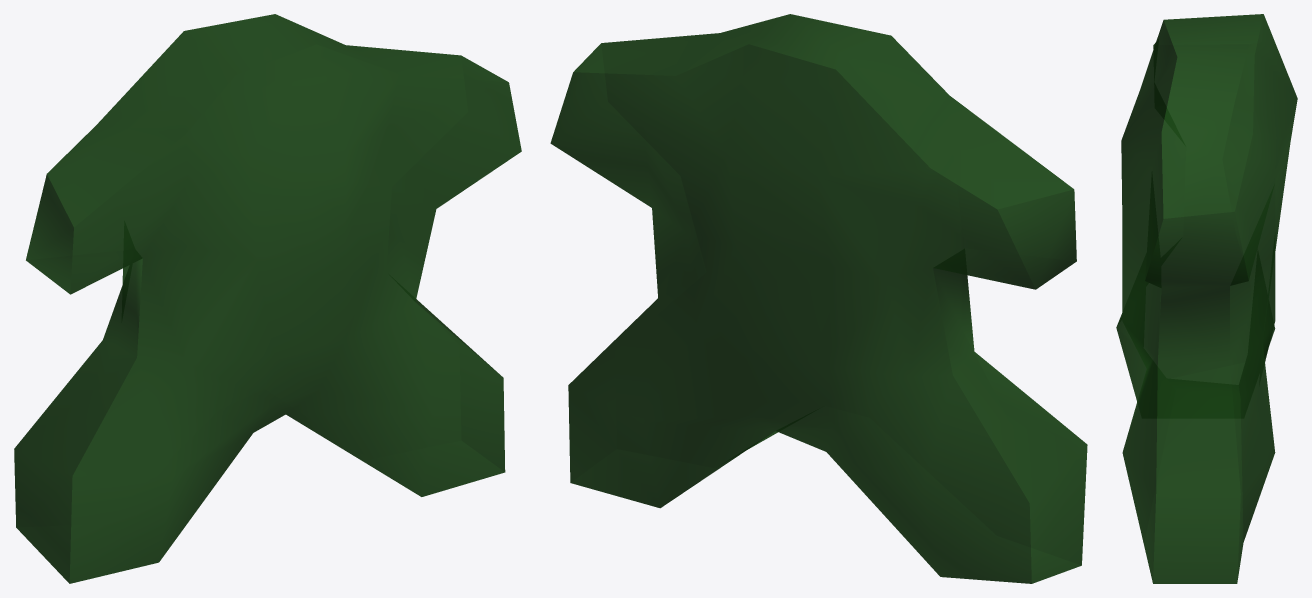
Rendered from SlobberGlas.FBX.
3 renders of one model, left to right at view 1: azimuth 30°, elevation 25°; view 2: azimuth 150°, elevation 25°; view 3: azimuth 270°, elevation 25°, orthographic. The views are drawn at different scales.
Parts seen in each view (by area): view 1: Box001; view 2: Box001; view 3: Box001.
Boxes of the visible parts, x1=… form: Box001: x1=14, y1=14, x2=521, y2=583; Box001: x1=550, y1=14, x2=1087, y2=583; Box001: x1=1116, y1=14, x2=1297, y2=583.
Size of the model in its own units: 48.8 by 48.19 by 17.61.
